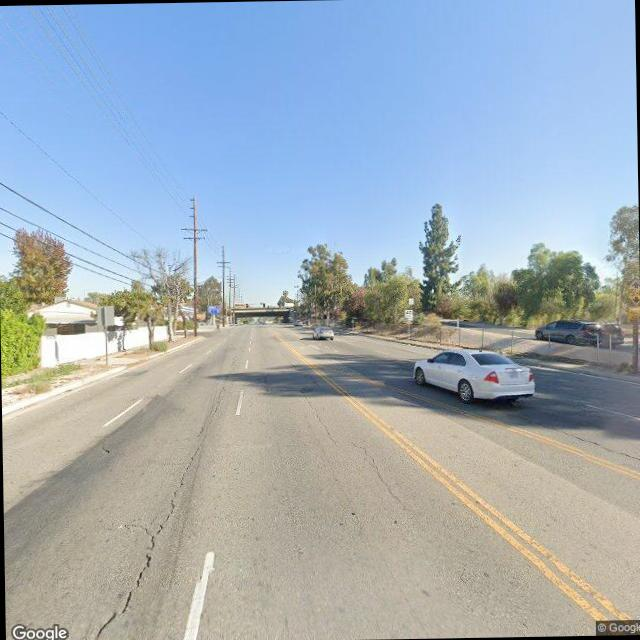pothole: (82, 423, 214, 639), (520, 410, 638, 460), (349, 438, 408, 510), (298, 384, 335, 448)
